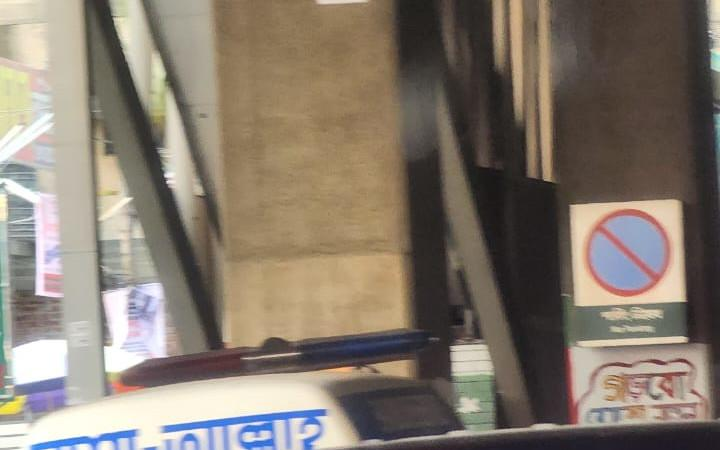No Parking: (565, 193, 693, 343)
